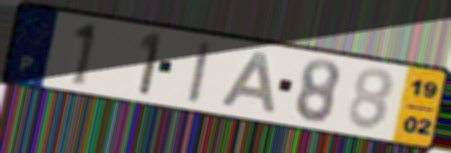1: (70, 22, 100, 88), (136, 31, 164, 99)
8: (346, 66, 399, 135), (293, 57, 344, 125)
A: (217, 50, 278, 116)
I: (184, 39, 214, 107)
